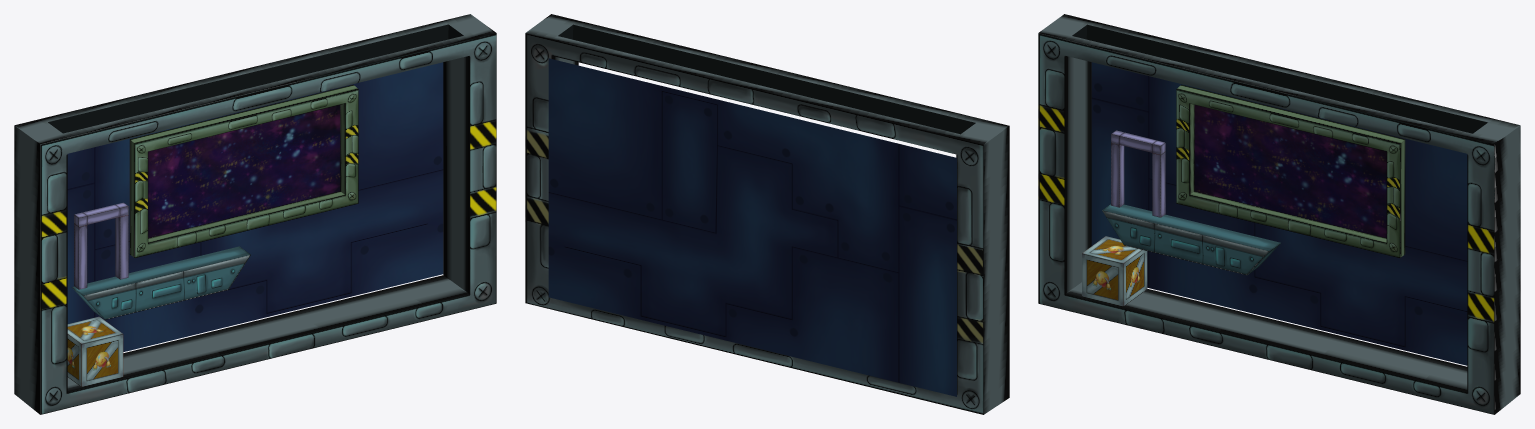
Rendered from escenario_textura.dae.
3 views of the same model, side by side, from view 1: azimuth 30°, elevation 25°; view 2: azimuth 150°, elevation 25°; view 3: azimuth 330°, elevation 25° (orthographic).
Parts seen in each view (by area): view 1: pCube5, pPlane2, pPlane1, pCube19, pCube13, pCube17, pCube21; view 2: pPlane2, pCube5; view 3: pCube5, pPlane2, pPlane1, pCube19, pCube13, pCube17, pCube21.
Part boxes in pixels (x1,y1,x2,y2): pCube5: (14, 14, 496, 414); pPlane2: (67, 62, 443, 351); pPlane1: (148, 105, 340, 237); pCube19: (129, 84, 358, 257); pCube13: (72, 246, 250, 319); pCube17: (67, 316, 123, 387); pCube21: (74, 202, 128, 289); pPlane2: (548, 58, 956, 396); pCube5: (525, 14, 1009, 414); pCube5: (1038, 14, 1520, 414); pPlane2: (1091, 62, 1467, 365); pPlane1: (1194, 105, 1386, 237); pCube19: (1176, 84, 1405, 257); pCube13: (1102, 204, 1280, 275); pCube17: (1082, 236, 1147, 306); pCube21: (1111, 130, 1165, 217).
Bounding box in the file's own units: 54 × 30.6 × 5.73.
